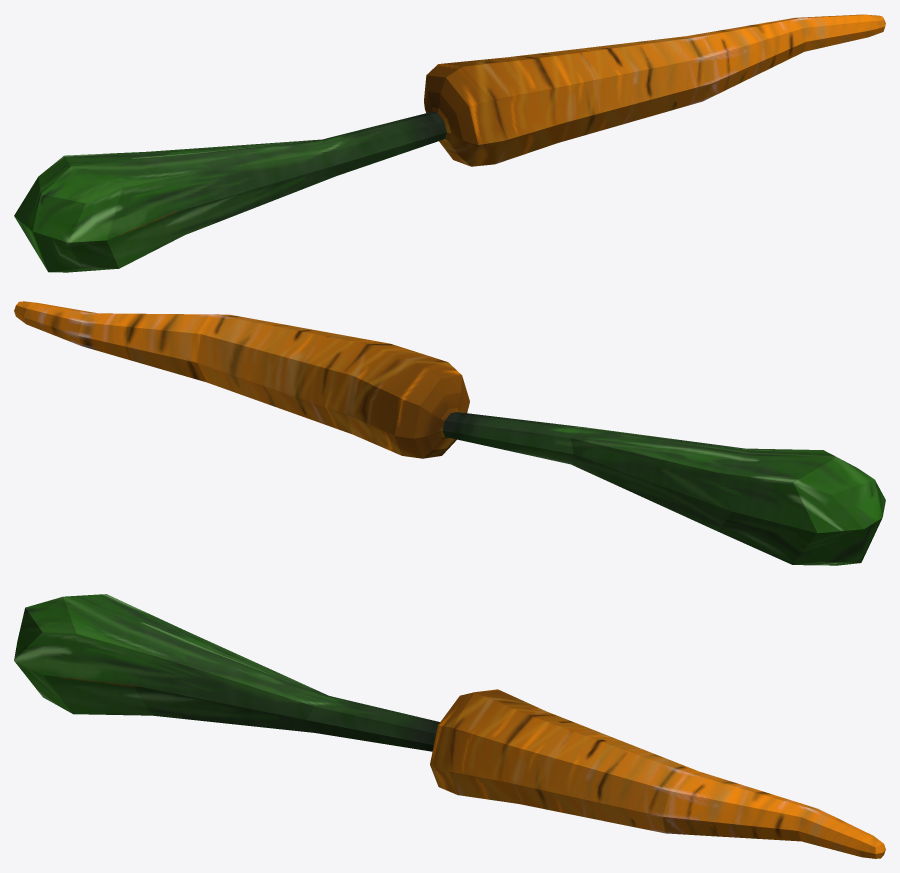
File: MoehreUni.fbx
3 renders of one model, top to bottom at view 1: azimuth 30°, elevation 25°; view 2: azimuth 150°, elevation 25°; view 3: azimuth 330°, elevation 25°, orthographic.
Visible parts, largest first — view 1: Moehre; view 2: Moehre; view 3: Moehre.
Part boxes in pixels (<box>): Moehre: <box>14,14,885,272</box>; Moehre: <box>14,301,885,565</box>; Moehre: <box>14,594,885,858</box>.
Bounding box in the file's own units: 24.62 × 2.92 × 3.14.
